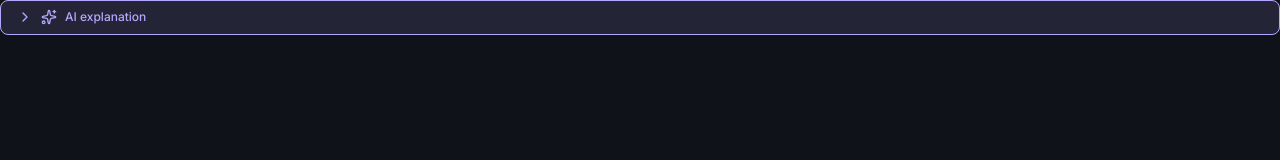
Test: AiExplanation › falls back to the deterministic text, without the AI caption, when unavailable
Click the button "AI explanation".
click(106, 16)  # box [17,9,1263,26]
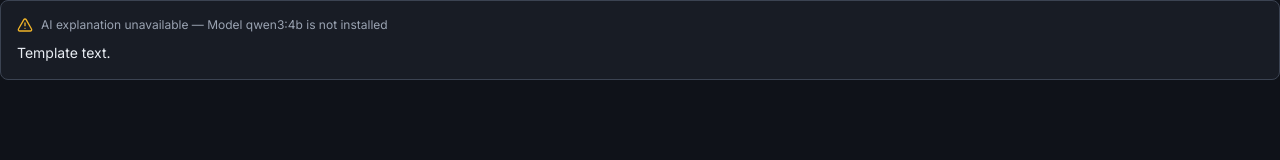
Expected: the text "AI explanation unavailable — Model qwen3:4b is not installed" is shown, [17,17,388,33]
Expected: the text "Template text." is shown, [17,44,111,61]
